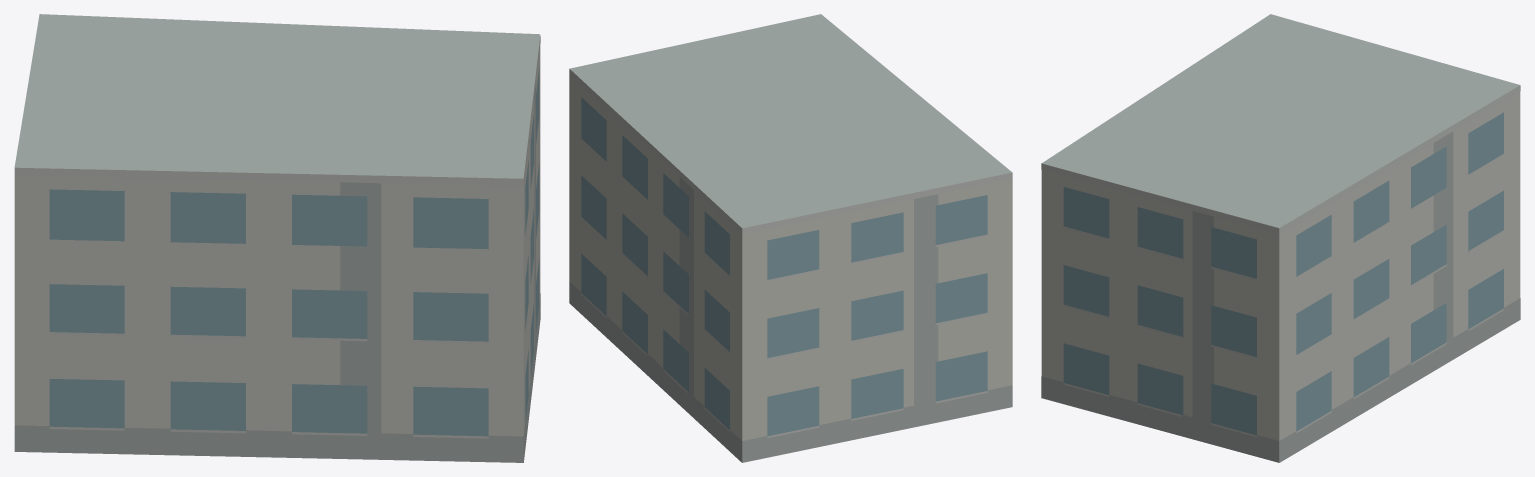
File: survey-upis-32748375.glb
3 views of the same model, side by side, from view 1: azimuth 30°, elevation 25°; view 2: azimuth 150°, elevation 25°; view 3: azimuth 270°, elevation 25° (orthographic). The views are drawn at different scales.
Visible parts, largest first — view 1: survey-upis-32748375.tmp; view 2: survey-upis-32748375.tmp; view 3: survey-upis-32748375.tmp.
Boxes of the visible parts, left/top/right/bottom form: survey-upis-32748375.tmp: left=14, top=14, right=540, bottom=462; survey-upis-32748375.tmp: left=569, top=14, right=1012, bottom=462; survey-upis-32748375.tmp: left=1041, top=14, right=1520, bottom=462.
Bounding box in the file's own units: 17.92 × 9.15 × 16.93.
